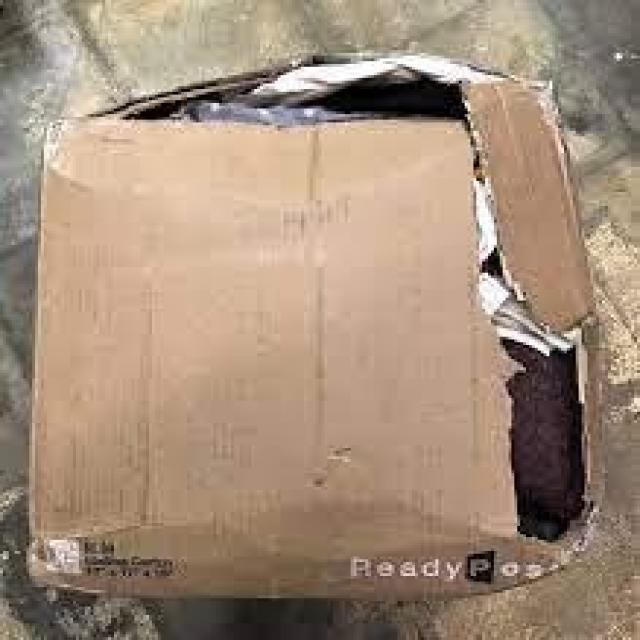damaged: (453, 253, 593, 576)
